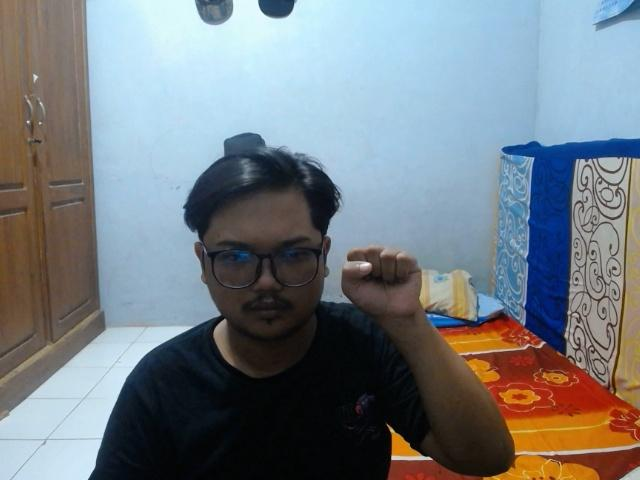Grab: (338, 239, 427, 326)
